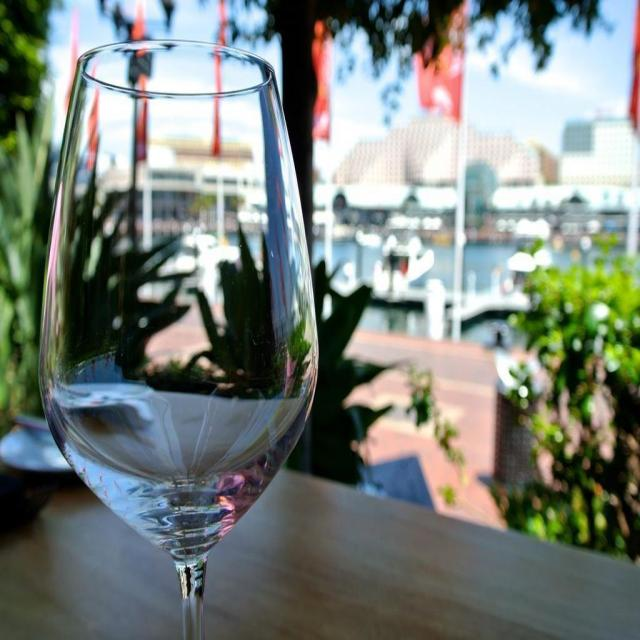glass-wine: (39, 45, 318, 640)
